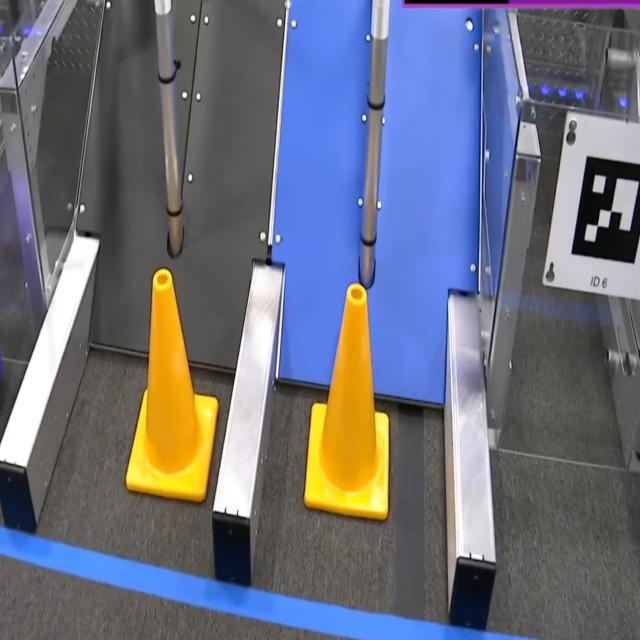frc_cone: (124, 268, 218, 502), (305, 284, 391, 522)
